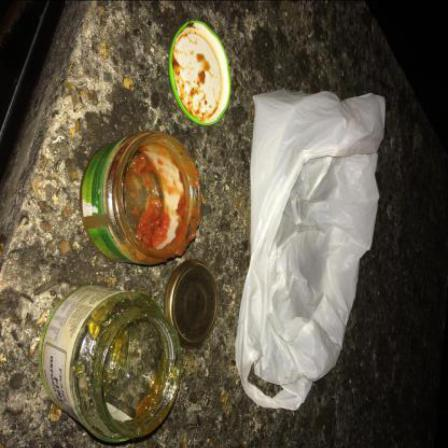Lid: (170, 21, 232, 127), (165, 260, 220, 350)
Other litter: (39, 286, 183, 443), (80, 131, 203, 266)
Plastic bag - wrapper: (237, 91, 387, 412)
